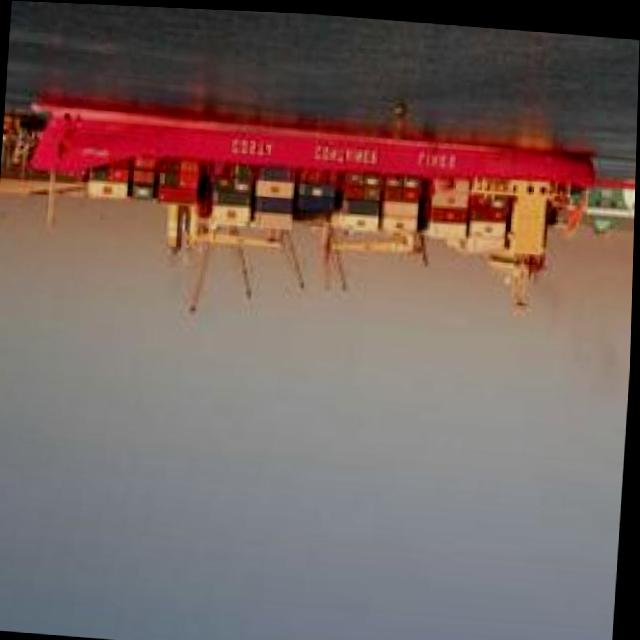ship2: (29, 106, 597, 319)
